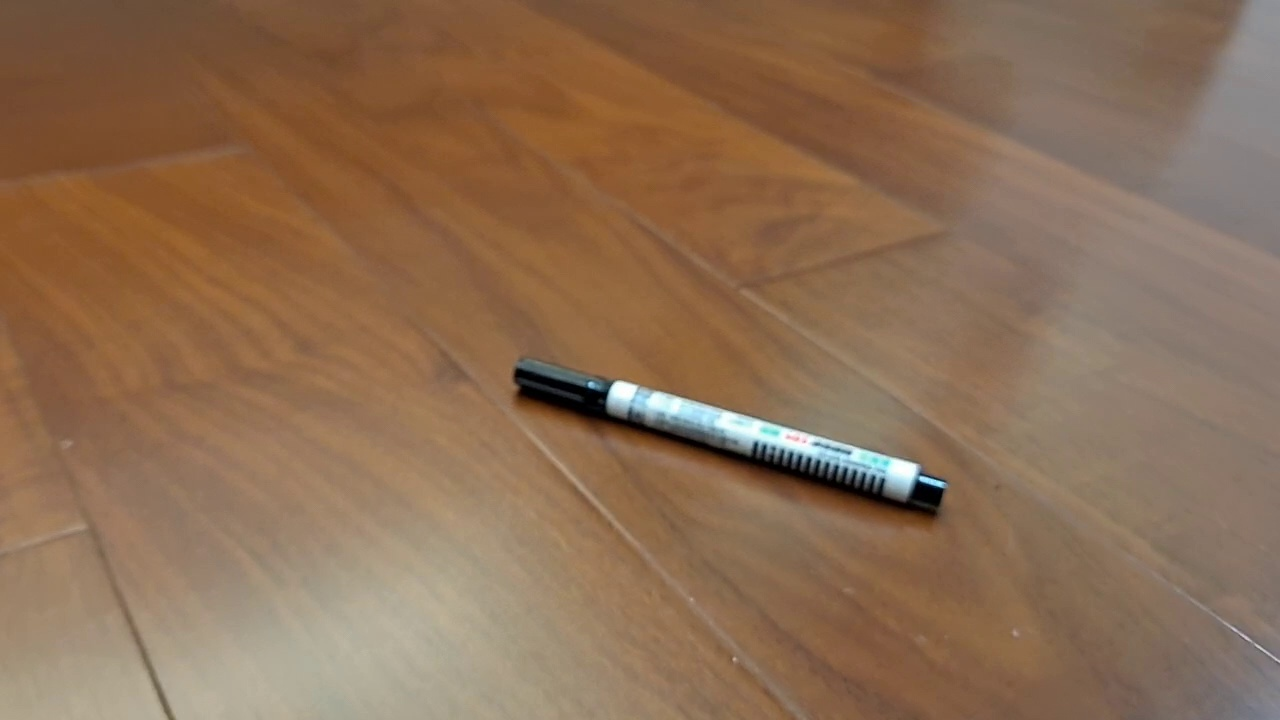pen: (513, 356, 948, 511)
